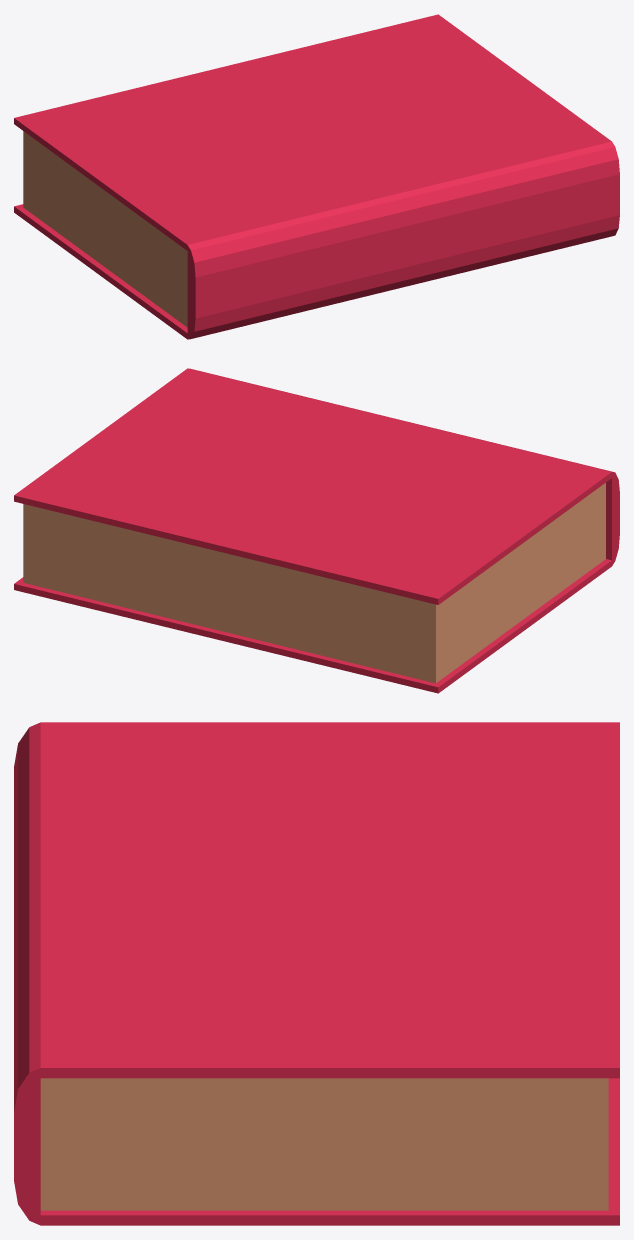
File: Book.fbx
3 renders of one model, top to bottom at view 1: azimuth 30°, elevation 25°; view 2: azimuth 150°, elevation 25°; view 3: azimuth 270°, elevation 25°, orthographic. The views are drawn at different scales.
Parts seen in each view (by area): view 1: Book; view 2: Book; view 3: Book.
Boxes of the visible parts, bbox=[...] form: Book: bbox=[14, 14, 619, 339]; Book: bbox=[14, 368, 619, 693]; Book: bbox=[14, 722, 619, 1225].
Size of the model in its own units: 21.6 by 4.6 by 16.01.
